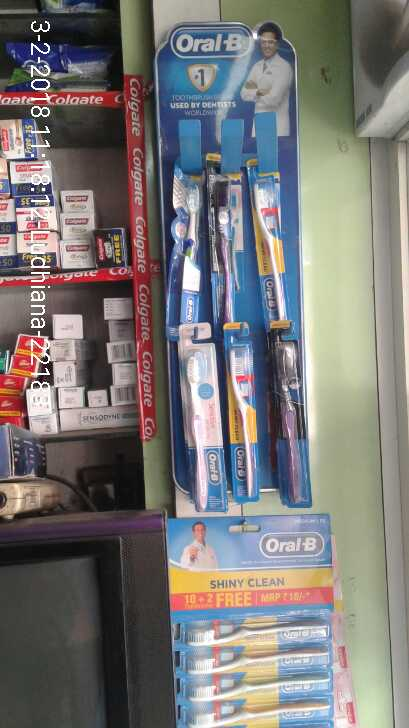oralb: (269, 337, 317, 518), (248, 167, 304, 321), (173, 344, 220, 508), (185, 668, 342, 705), (206, 178, 244, 323), (227, 341, 262, 496), (175, 172, 206, 327), (186, 644, 333, 675), (179, 614, 325, 645), (177, 704, 332, 728)
